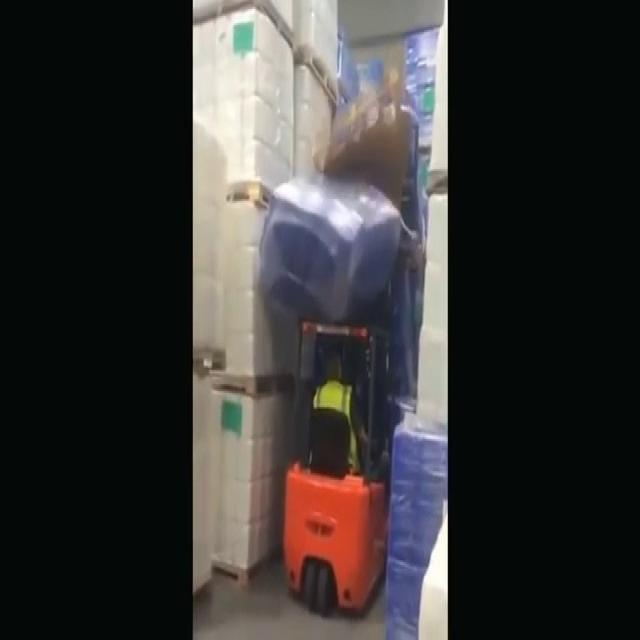forklift: (275, 304, 389, 626)
